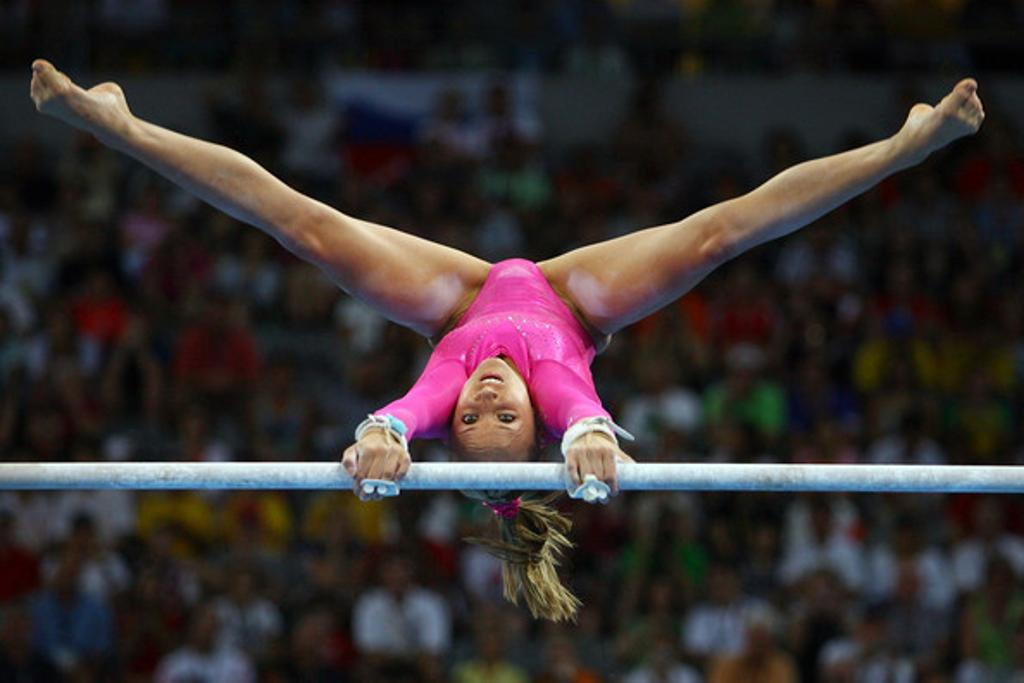face: (456, 356, 528, 464)
